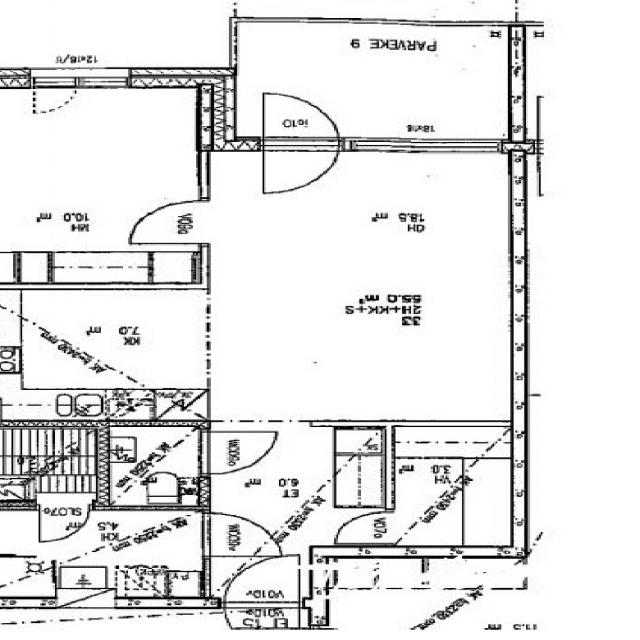door: (263, 137, 338, 198), (263, 90, 338, 150), (224, 556, 298, 608), (201, 512, 277, 556), (197, 432, 276, 474), (130, 200, 208, 242), (224, 602, 298, 640), (333, 512, 394, 544), (39, 502, 88, 541)
